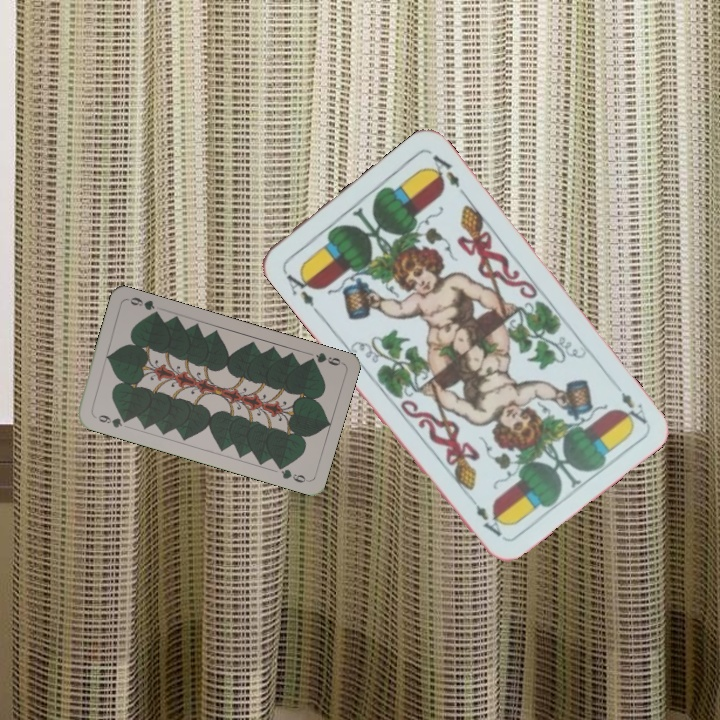EA: (279, 264, 321, 316), (616, 388, 650, 429)
G9: (303, 349, 345, 368), (90, 411, 131, 430)
